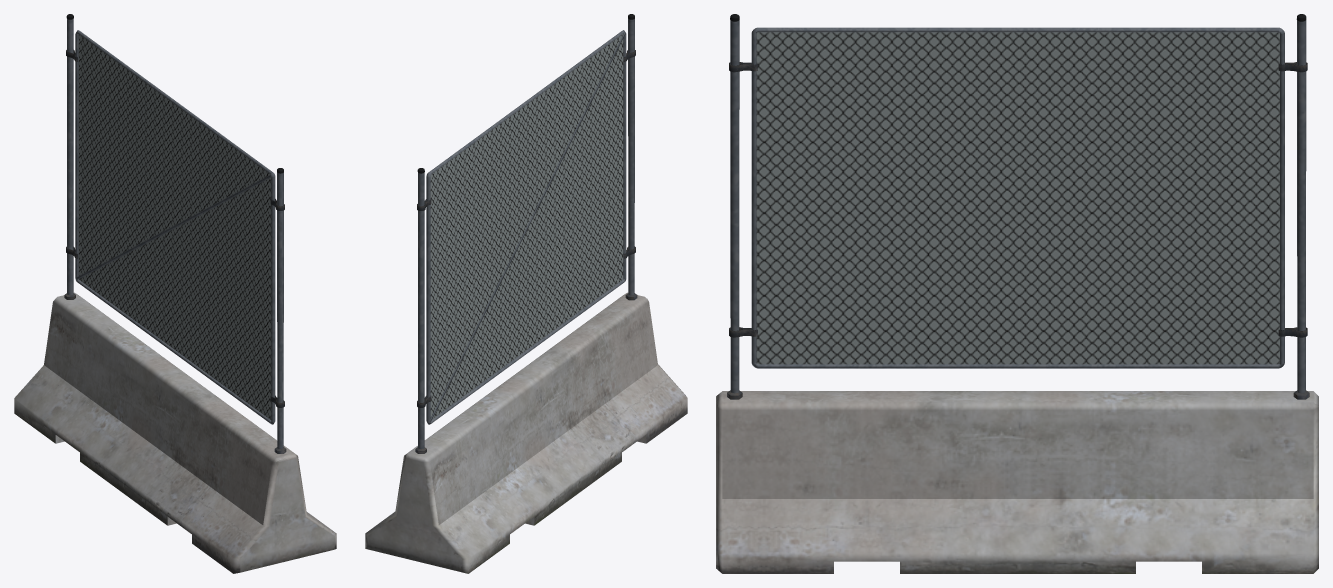
Rendered from Fence_A_A.fbx.
3 renders of one model, left to right at view 1: azimuth 30°, elevation 25°; view 2: azimuth 150°, elevation 25°; view 3: azimuth 270°, elevation 25°, orthographic. The views are drawn at different scales.
Visible parts, largest first — view 1: Fence_A_A_LOD0; view 2: Fence_A_A_LOD0; view 3: Fence_A_A_LOD0.
Boxes of the visible parts, left/top/right/bottom form: Fence_A_A_LOD0: left=14, top=14, right=336, bottom=573; Fence_A_A_LOD0: left=365, top=14, right=687, bottom=573; Fence_A_A_LOD0: left=716, top=14, right=1318, bottom=573.
Size of what is drawn, in the model's own units: 80 by 288 by 300.
